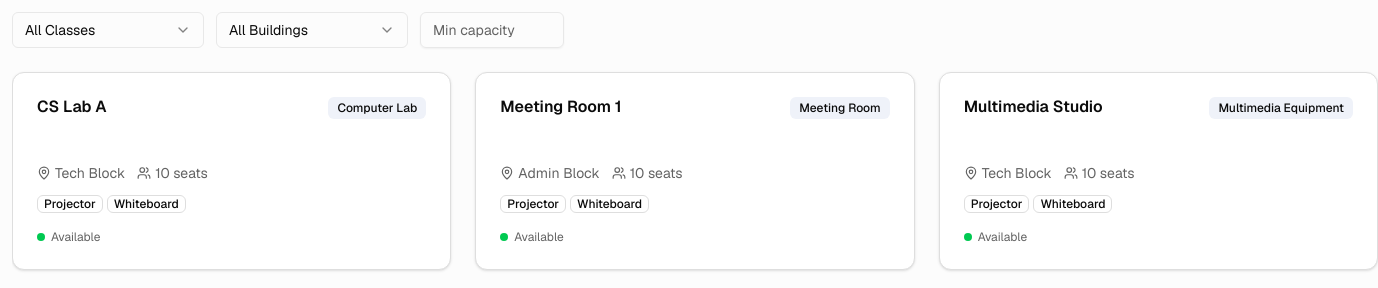
Scenario: ResourceGrid › filters cards by class when a class filter is applied via Select
The width and height of the screenshot is (1378, 288).
Expected: the heading "CS Lab A" is shown, [37, 97, 107, 117]
Expected: the heading "Meeting Room 1" is shown, [500, 97, 622, 117]
Click the dropdown labelled "All Classes". click: (108, 30)
box: [12, 12, 204, 48]
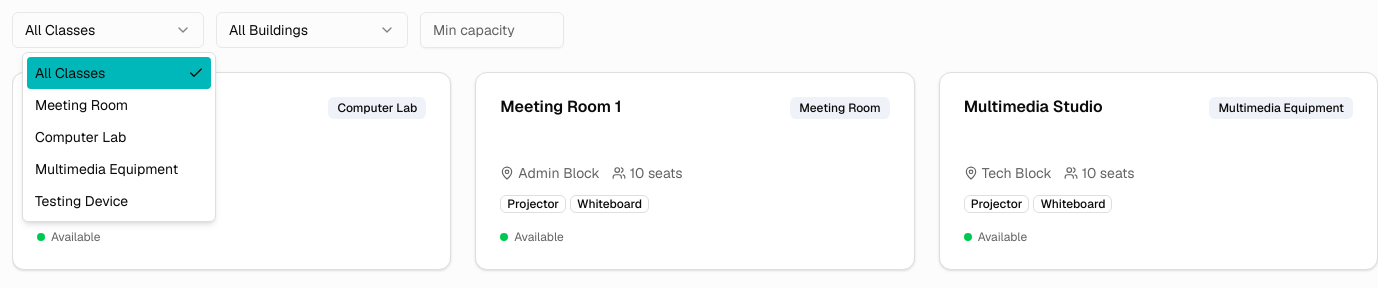
Now the option "Computer Lab" is shown
Click the option "Computer Lab". click: (81, 137)
box: [35, 128, 126, 146]
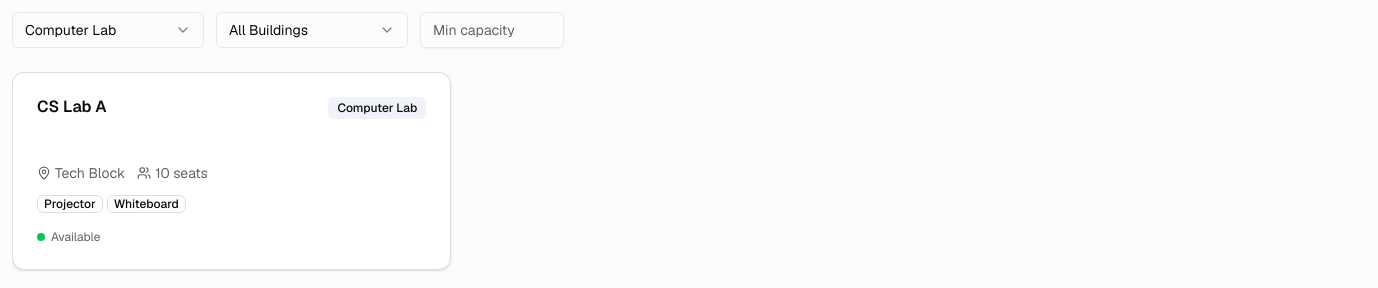
Expected: the heading "CS Lab A" is shown, [37, 97, 107, 117]
Now the link "Meeting Room 1" is gone
